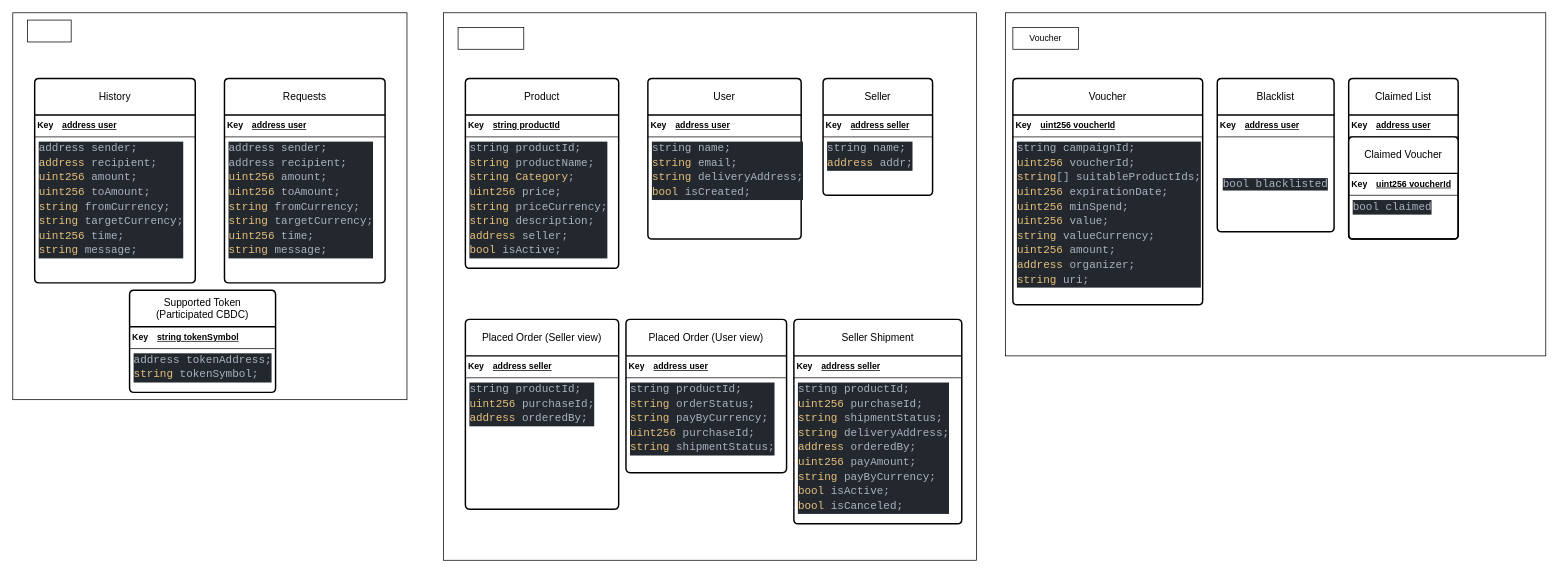
Some shapes in this 1559 by 573 pixel diagram are drawn without their labels. Here are the shapes that lost their labels. From the top down, the centre of each, then its label:
point 49,30: MCBDC
point 490,38: E-Commerce
